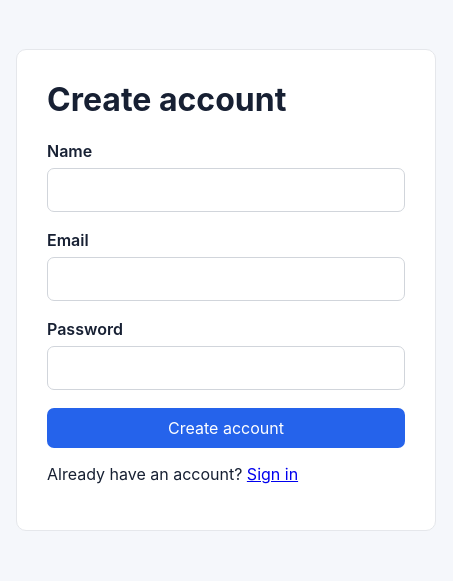
Test case: Register › displays an error when registration fails
Type "Jane Doe" into the field labelled "Name".
click(226, 190); type("Jane Doe")  # box [47, 168, 405, 212]
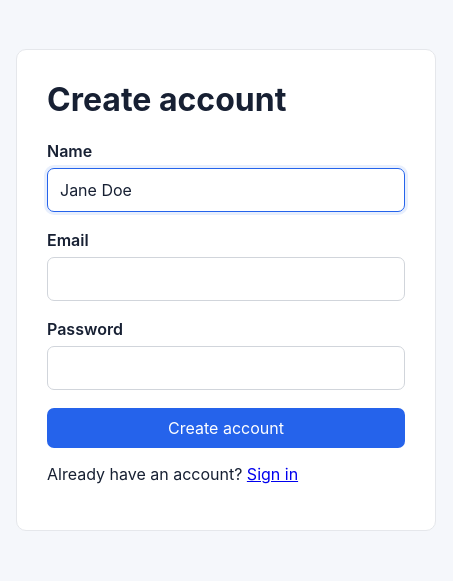
Type "jane@example.com" into the field labelled "Email".
click(226, 279); type("jane@example.com")  # box [47, 257, 405, 301]
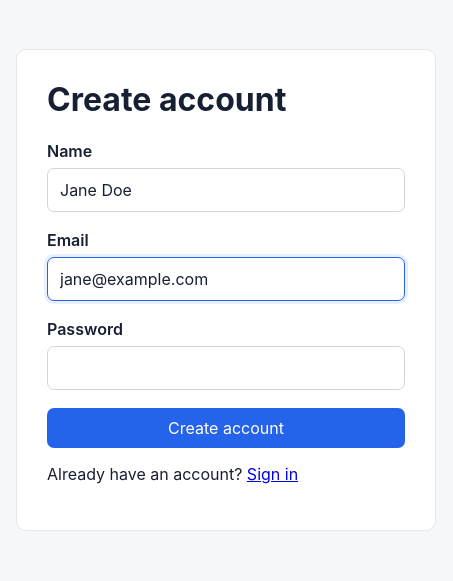
Type "secret123" into the password field labelled "Password".
click(226, 368); type("secret123")  # box [47, 346, 405, 390]
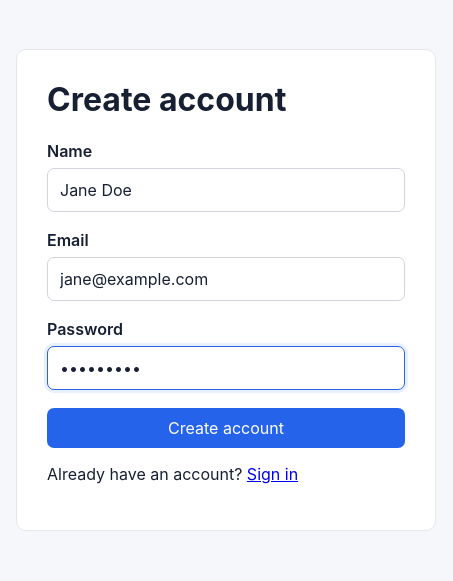
Click the button "Create account".
click(226, 428)  # box [47, 408, 405, 448]
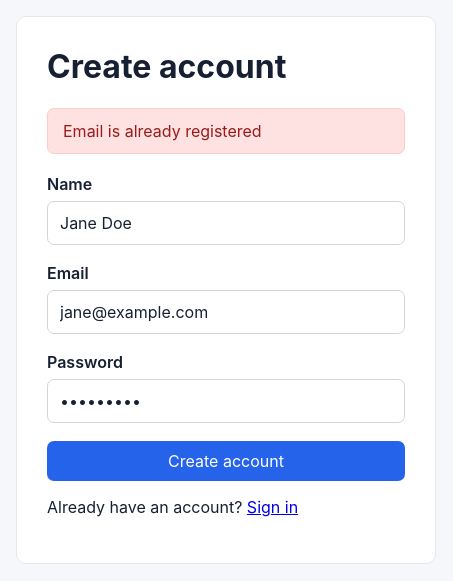
Check: the text "Email is already registered" is shown, box [47, 108, 405, 154]
